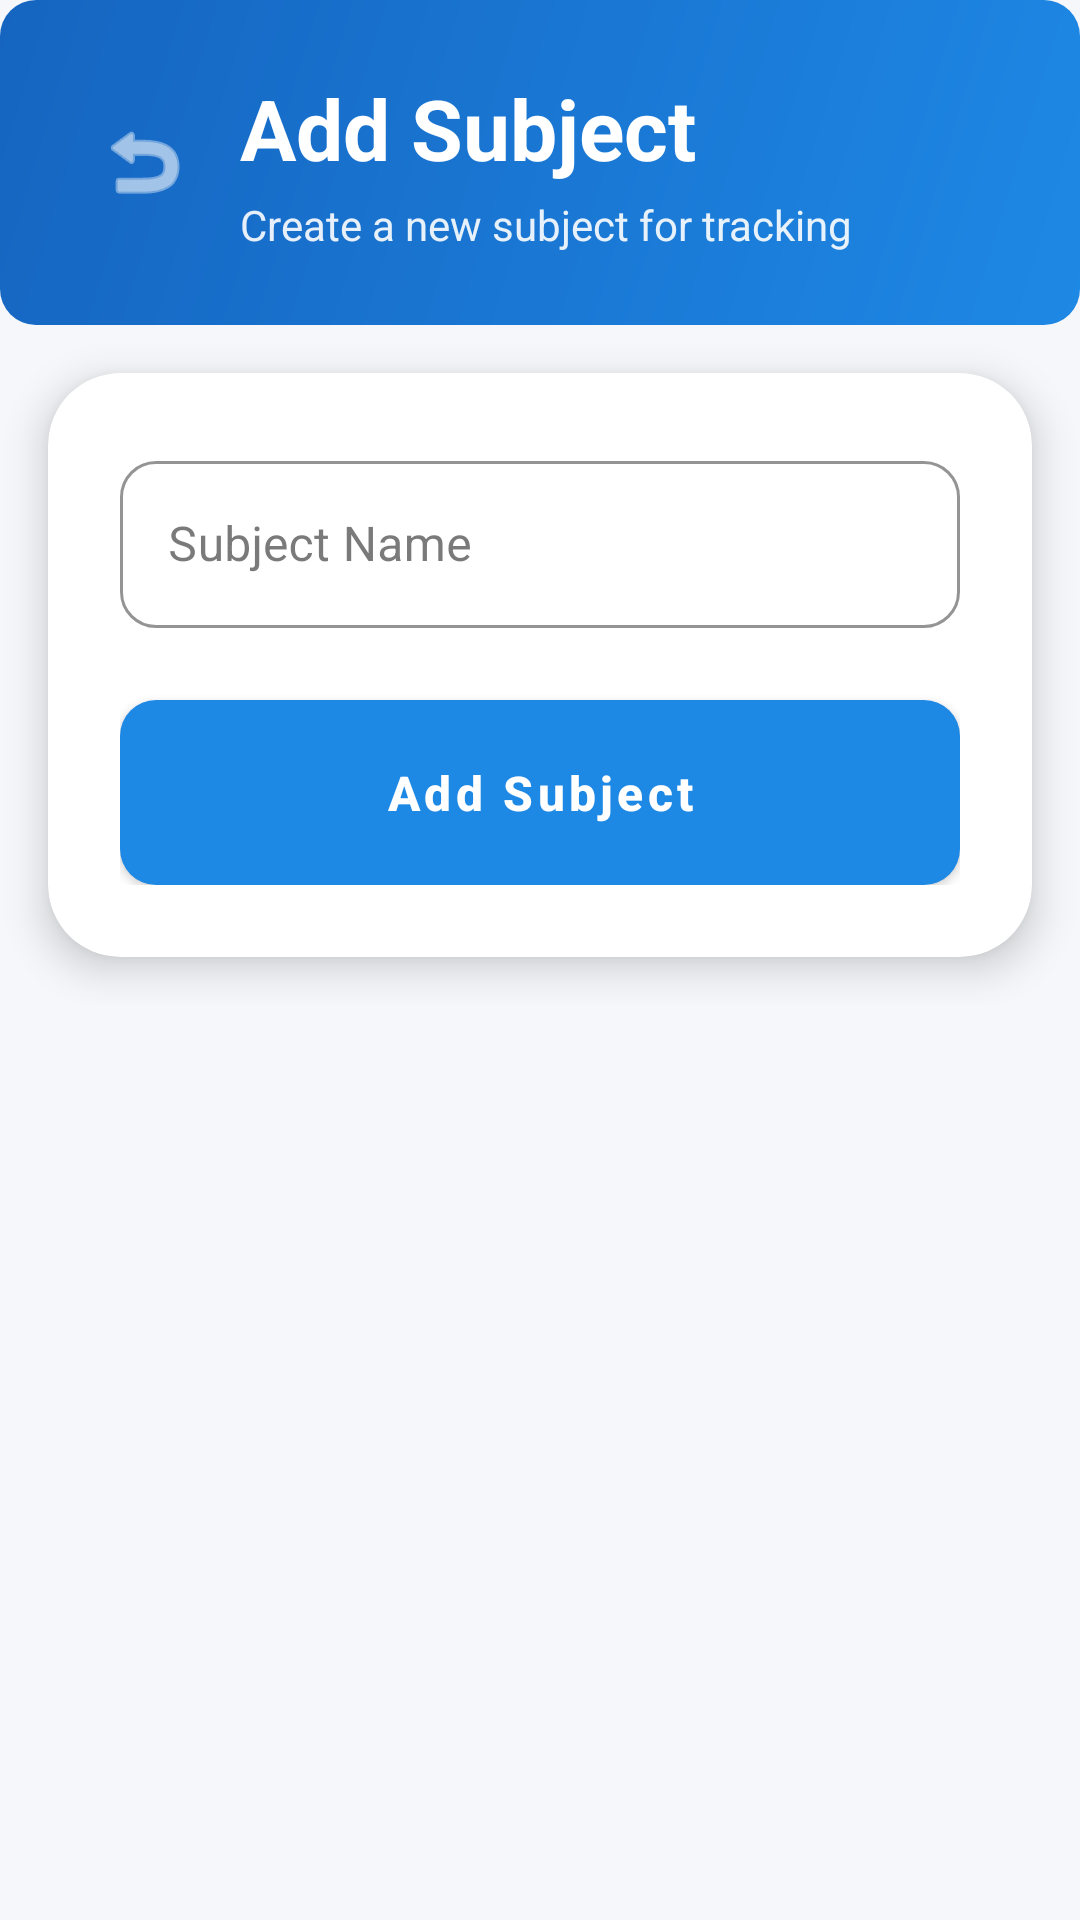

Icon bounding boxes for this 1080 x 1920 phone screenshot, format (x1, y1, x2, y2):
revert: (111, 131, 180, 194)
